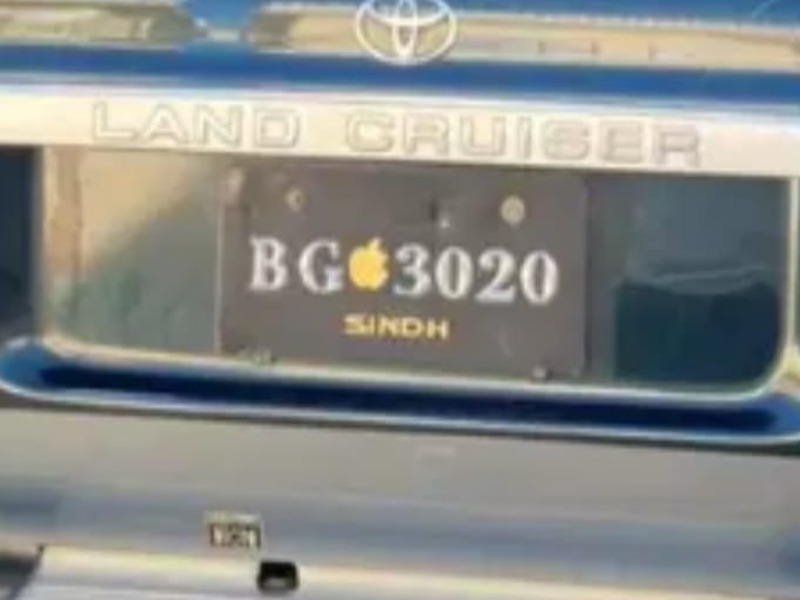License Plate: (220, 156, 588, 381)
